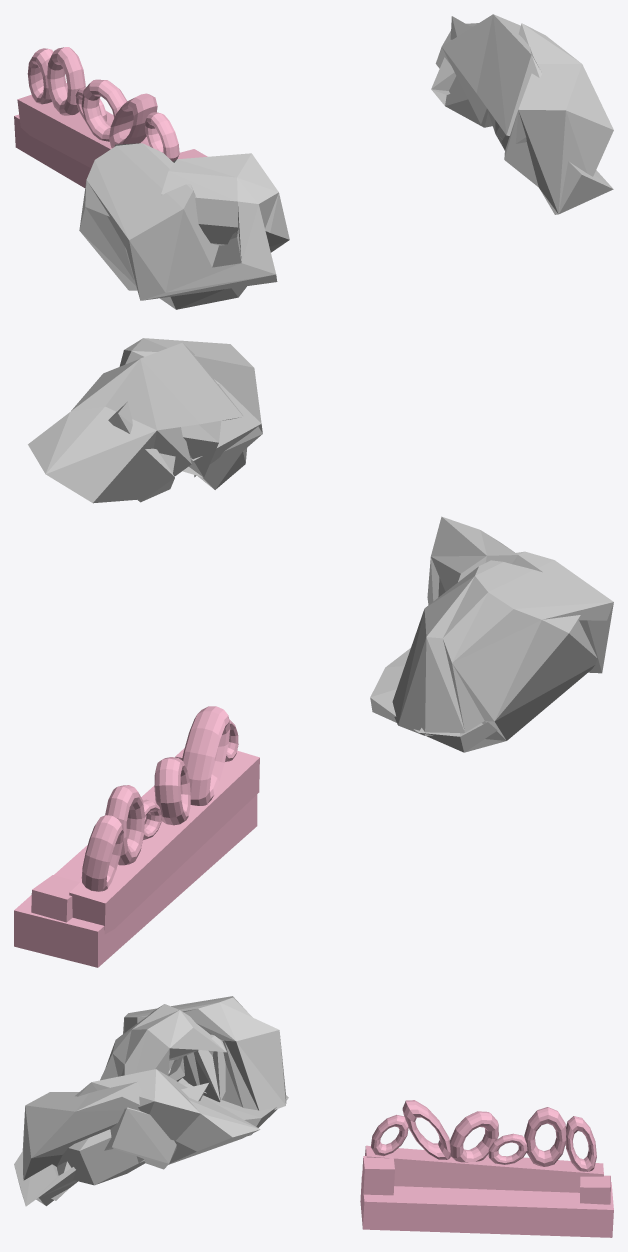
The model's file is modelC.obj.
The picture shows the model from 3 angles, top to bottom: view 1: azimuth 30°, elevation 25°; view 2: azimuth 150°, elevation 25°; view 3: azimuth 270°, elevation 25°; orthographic projection. The views are drawn at different scales.
Visible parts, largest first — view 1: group1407996034, group690573934, group997983099, group32685562, group795516396, group249111936, group250445496, group1115652965, group438409493; view 2: group1407996034, group690573934, group997983099, group795516396, group249111936, group438409493, group250445496, group32685562, group1601070232; view 3: group690573934, group1407996034, group795516396, group997983099, group250445496, group32685562, group249111936, group672843478, group438409493, group1115652965, group1601070232, group18155240.
Boxes of the visible parts, x1,y1,x2,y2 form: group1407996034: (79,143,289,309); group690573934: (431,14,613,214); group997983099: (17,94,149,167); group32685562: (47,47,85,115); group795516396: (14,111,148,187); group249111936: (109,93,157,148); group250445496: (81,79,126,141); group1115652965: (144,112,179,161); group438409493: (27,48,53,104); group1407996034: (370,516,613,752); group690573934: (28,338,262,503); group997983099: (69,750,259,934); group795516396: (14,786,257,967); group249111936: (182,706,230,805); group438409493: (81,815,123,891); group250445496: (154,757,190,825); group32685562: (105,785,144,865); group1601070232: (31,875,79,922); group690573934: (14,1069,260,1206); group1407996034: (100,996,288,1135); group795516396: (360,1174,613,1237); group997983099: (365,1145,603,1192); group250445496: (449,1111,498,1162); group32685562: (524,1107,566,1166); group249111936: (402,1100,450,1159); group672843478: (362,1156,394,1195); group438409493: (565,1116,596,1171); group1115652965: (371,1114,408,1156); group1601070232: (580,1175,610,1204); group18155240: (488,1133,527,1164).
Size of the model in its own units: 1.17 by 0.6871 by 1.58.
